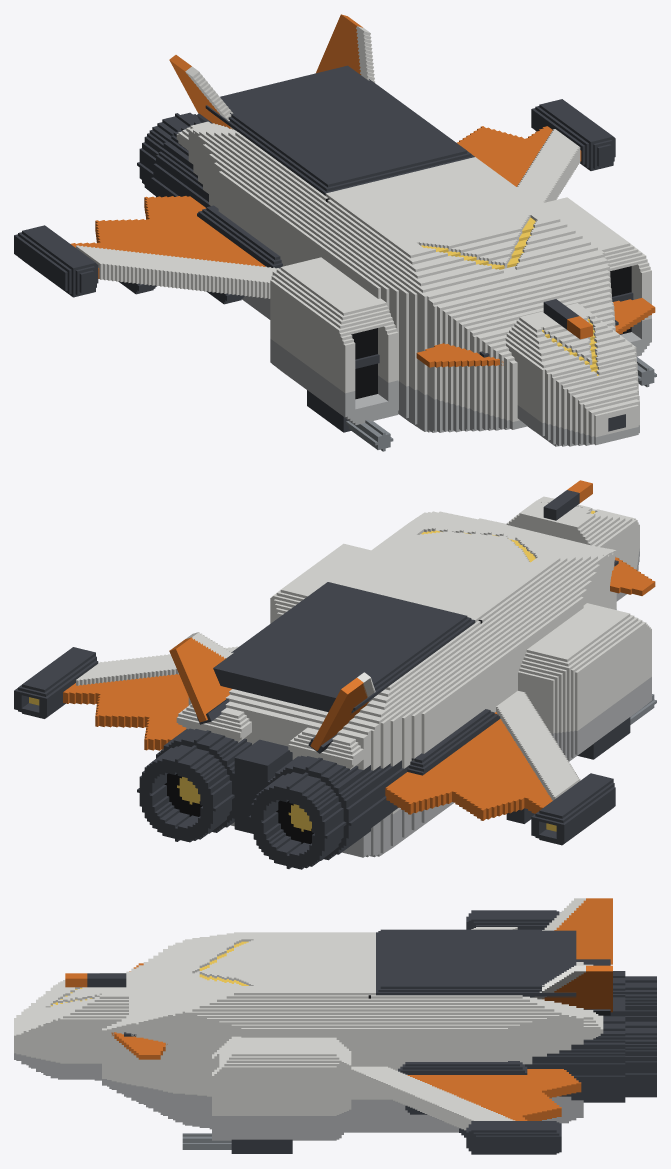
Rendered from FalcoJet_r1_20261106.glb.
3 views of the same model, one above another, from view 1: azimuth 30°, elevation 25°; view 2: azimuth 150°, elevation 25°; view 3: azimuth 270°, elevation 25° (orthographic). The views are drawn at different scales.
Visible parts, largest first — view 1: JetBody, JetWingR, JetCockpit, JetWingL, JetTailL, JetTailR, JetCanardR, JetCanardL; view 2: JetBody, JetWingR, JetWingL, JetCockpit, JetTailL, JetTailR, JetCanardR; view 3: JetBody, JetWingL, JetCockpit, JetTailR, JetTailL, JetWingR, JetCanardL.
Boxes of the visible parts, left/top/right/bottom form: JetBody: left=137, top=65, right=656, bottom=451; JetWingR: left=14, top=196, right=282, bottom=304; JetCockpit: left=504, top=299, right=639, bottom=446; JetWingL: left=457, top=99, right=615, bottom=203; JetTailL: left=316, top=14, right=374, bottom=82; JetTailR: left=169, top=55, right=233, bottom=129; JetCanardR: left=416, top=343, right=503, bottom=367; JetCanardL: left=613, top=298, right=655, bottom=334; JetBody: left=137, top=511, right=656, bottom=869; JetWingR: left=385, top=691, right=615, bottom=845; JetWingL: left=14, top=646, right=238, bottom=750; JetCockpit: left=506, top=480, right=639, bottom=601; JetTailL: left=169, top=632, right=233, bottom=724; JetTailR: left=308, top=672, right=375, bottom=753; JetCanardR: left=610, top=557, right=655, bottom=595; JetBody: left=102, top=929, right=656, bottom=1153; JetWingL: left=351, top=1061, right=581, bottom=1154; JetCockpit: left=14, top=973, right=128, bottom=1080; JetTailR: left=542, top=898, right=612, bottom=965; JetTailL: left=532, top=965, right=612, bottom=1015; JetWingR: left=466, top=910, right=561, bottom=929; JetCanardL: left=111, top=1032, right=167, bottom=1059.
Size of the model in its own units: 10.85 by 3.84 by 13.15.
Materials: 1 (1 with a texture image).
